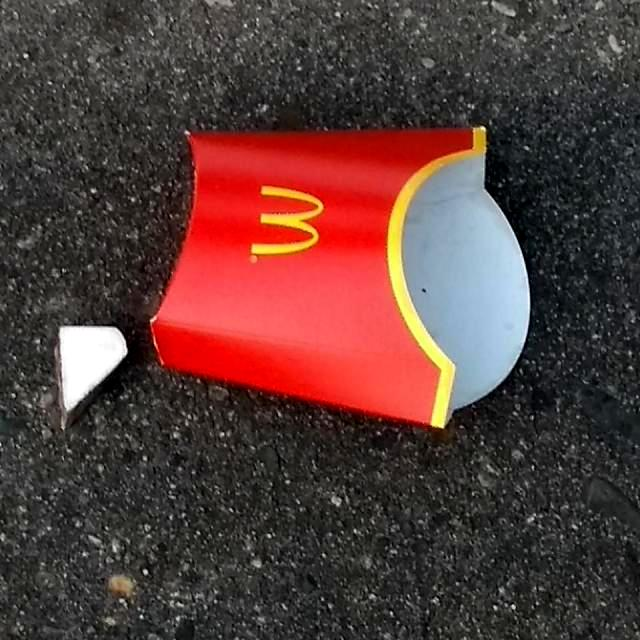Paper: (145, 119, 533, 433)
